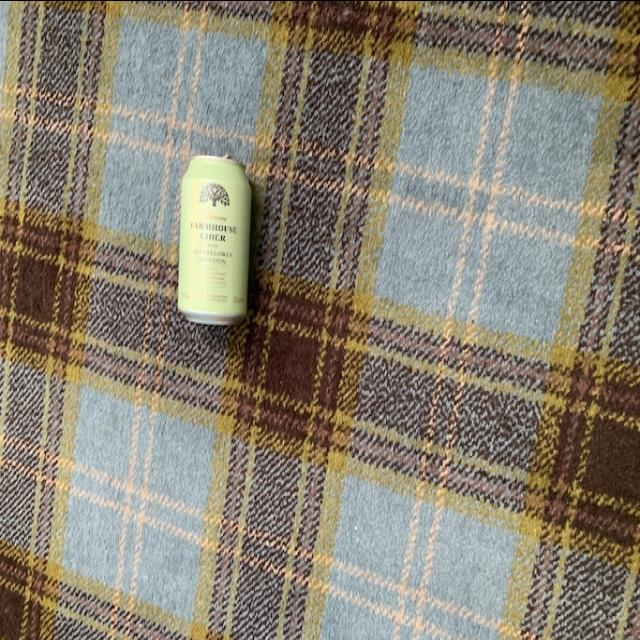litter: (176, 157, 260, 325)
